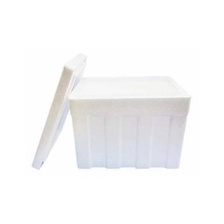foam_box: (26, 47, 198, 177), (64, 71, 194, 172), (26, 47, 90, 177)
